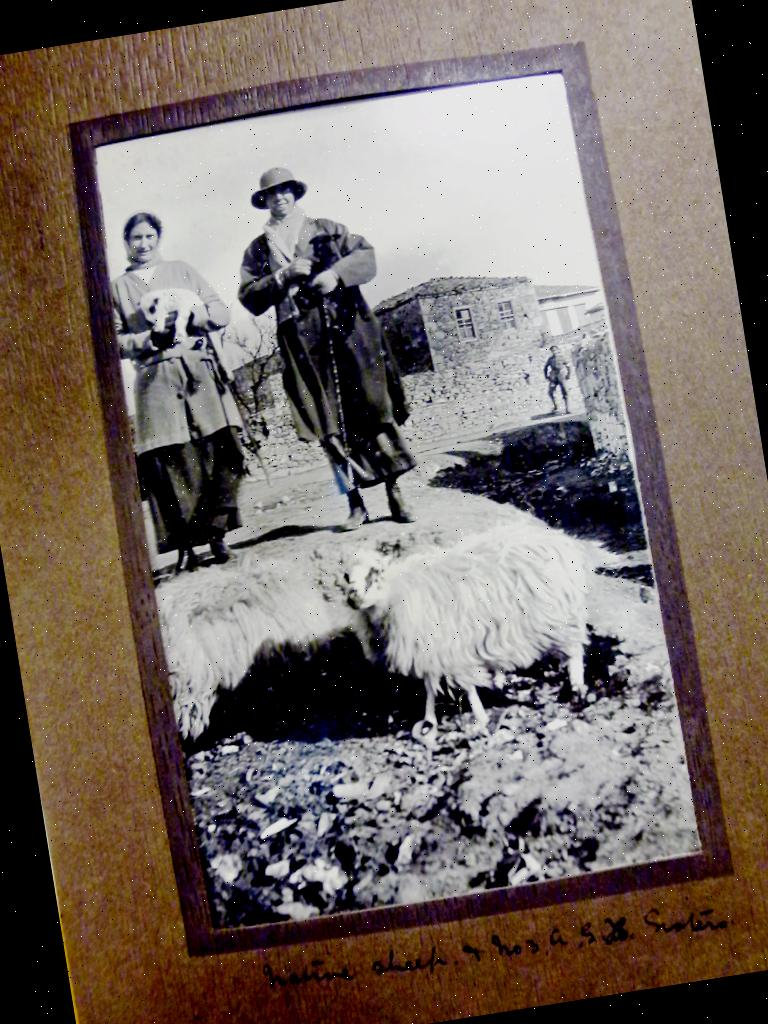Sheep: (309, 467, 614, 744), (148, 545, 323, 724)
